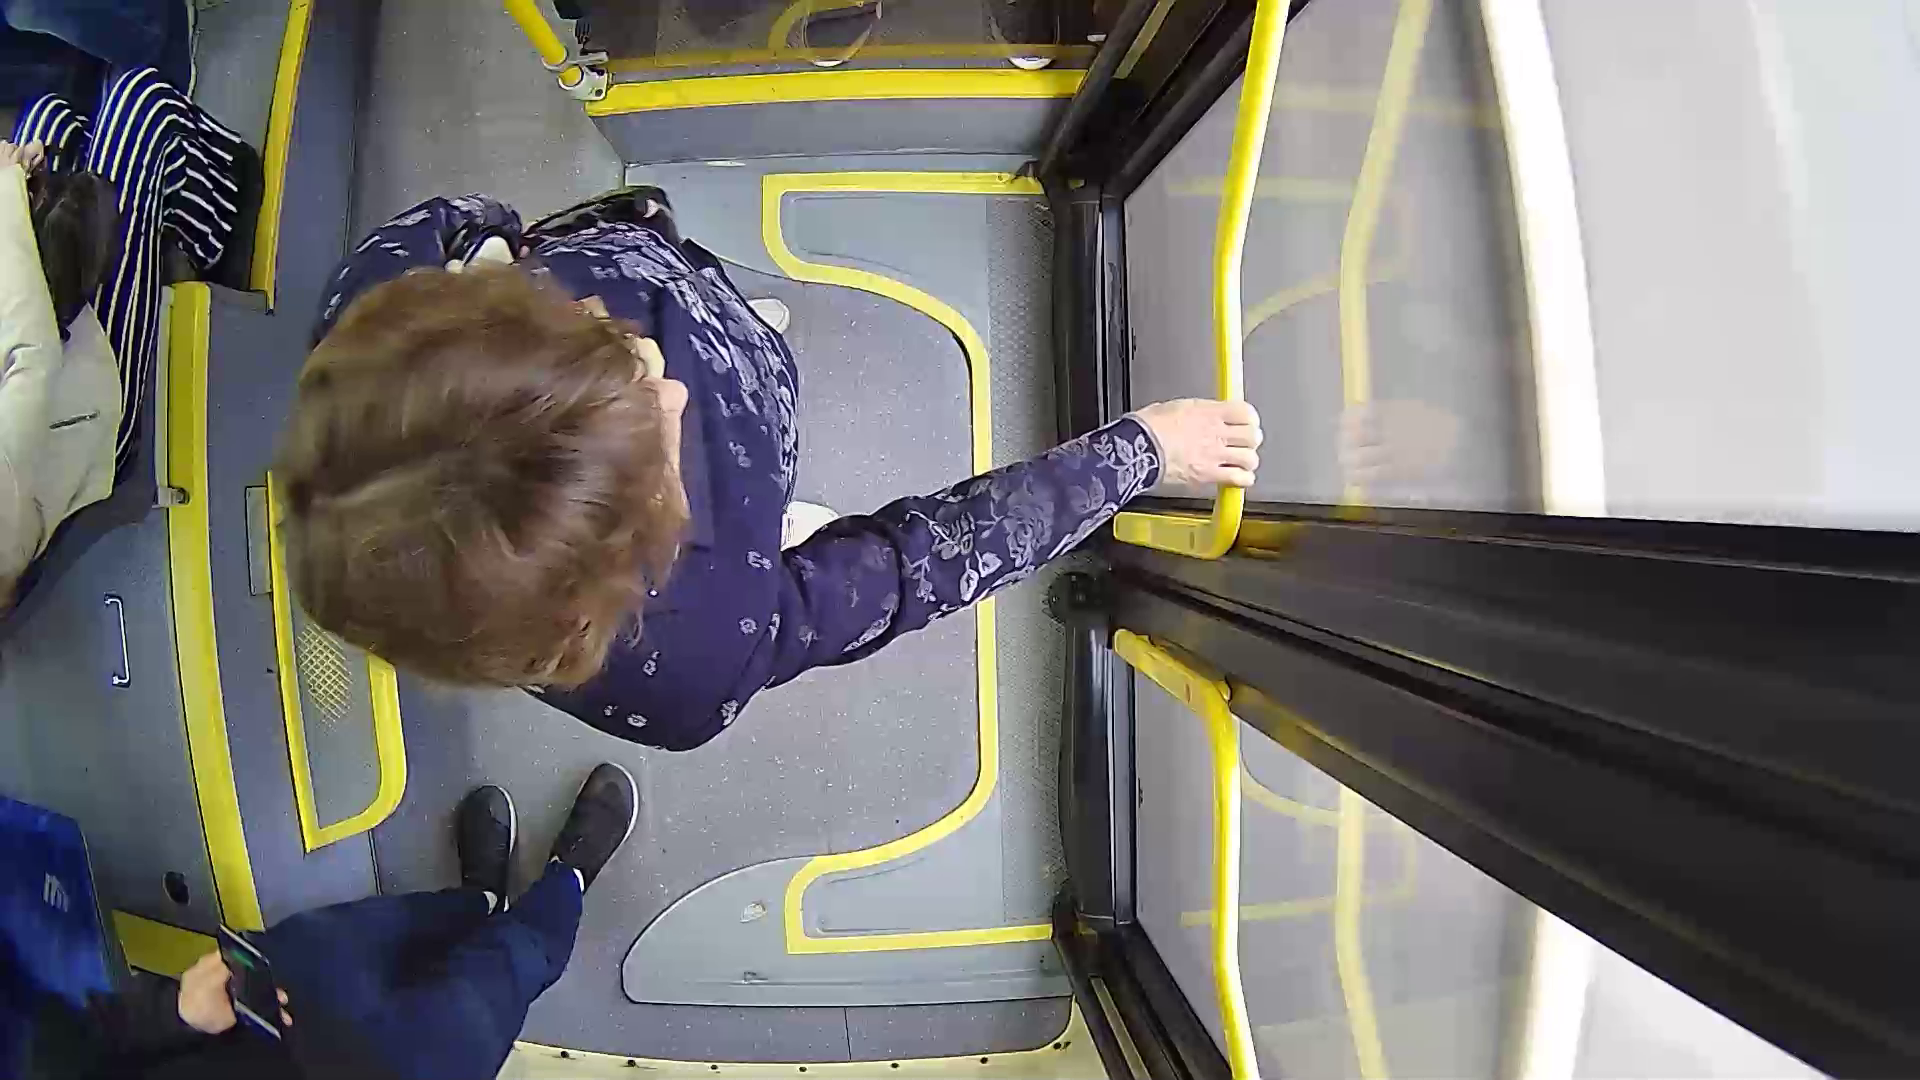person: (287, 205, 1098, 777)
